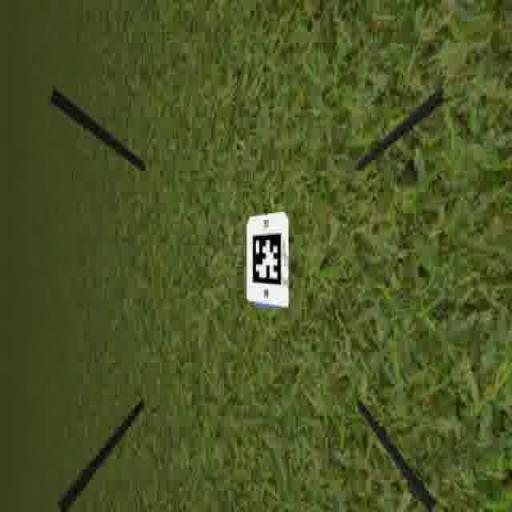UGV: (242, 211, 296, 311)
